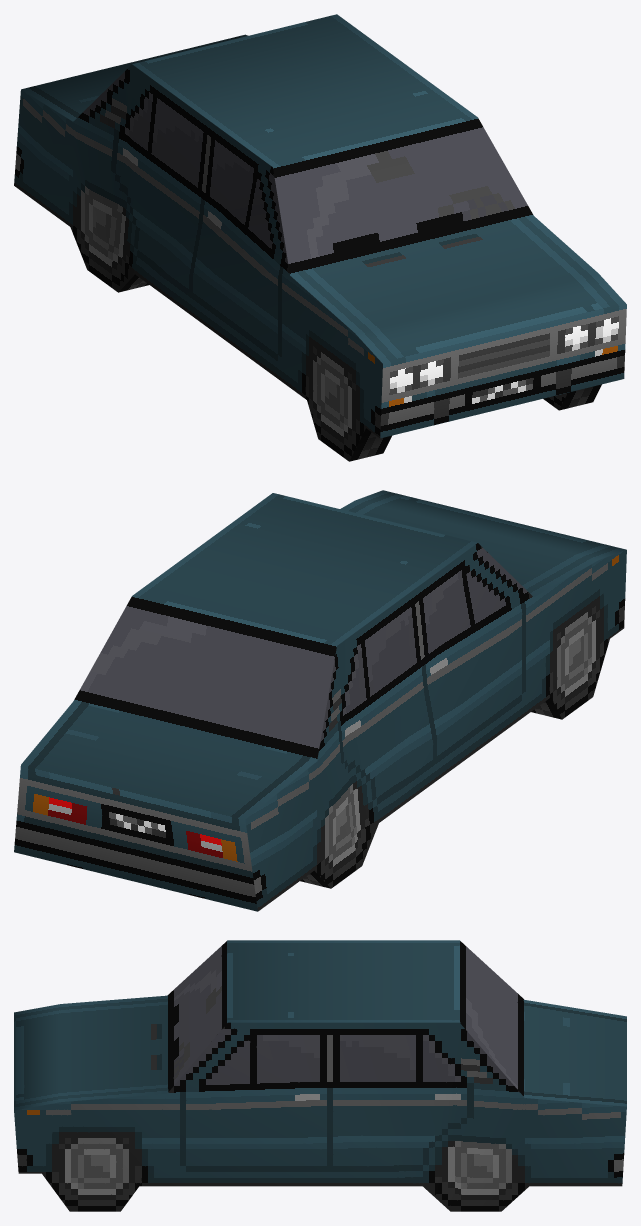
File: sv-vaz2106-blue.glb
3 renders of one model, top to bottom at view 1: azimuth 30°, elevation 25°; view 2: azimuth 150°, elevation 25°; view 3: azimuth 270°, elevation 25°, orthographic. The views are drawn at different scales.
Parts seen in each view (by area): view 1: sv-vaz2106-blue-mesh; view 2: sv-vaz2106-blue-mesh; view 3: sv-vaz2106-blue-mesh.
Part boxes in pixels (box(x1,y1,x2,y2)): sv-vaz2106-blue-mesh: box(14, 14, 626, 461); sv-vaz2106-blue-mesh: box(14, 490, 626, 911); sv-vaz2106-blue-mesh: box(14, 940, 626, 1211).
Bounding box in the file's own units: 50 × 43 × 132.
1 material, 1 textured.
